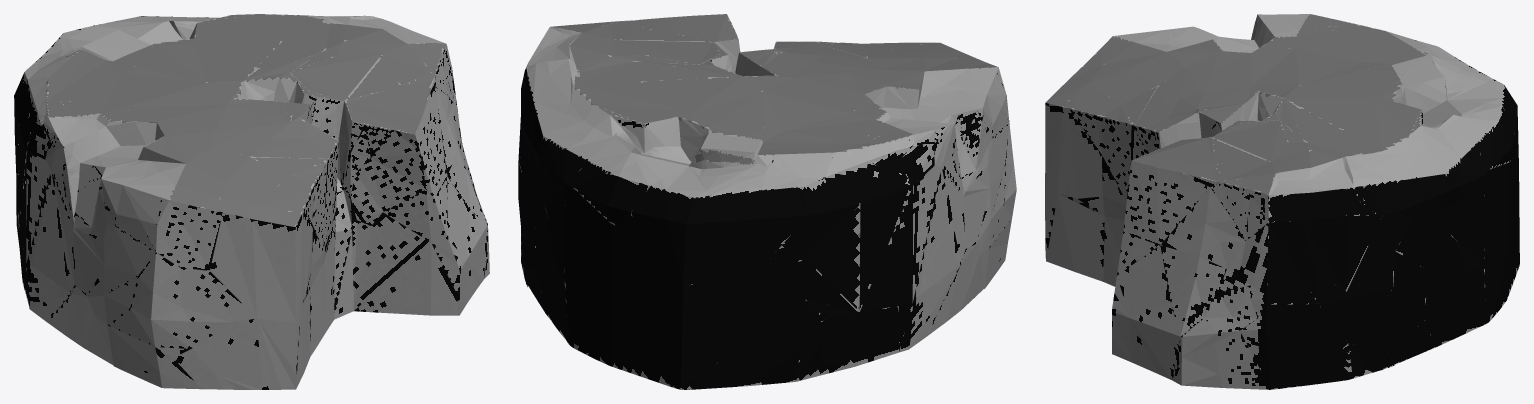
3 renders of one model, left to right at view 1: azimuth 30°, elevation 25°; view 2: azimuth 150°, elevation 25°; view 3: azimuth 270°, elevation 25°, orthographic. The views are drawn at different scales.
Visible parts, largest first — view 1: OBJ0b2; view 2: OBJ0b2; view 3: OBJ0b2.
Part boxes in pixels (left/top/right/bottom): OBJ0b2: left=14, top=14, right=489, bottom=389; OBJ0b2: left=518, top=14, right=1016, bottom=389; OBJ0b2: left=1045, top=14, right=1519, bottom=389.
Size of the model in its own units: 0.3151 by 0.1567 by 0.3319.
1 material, 1 textured.
